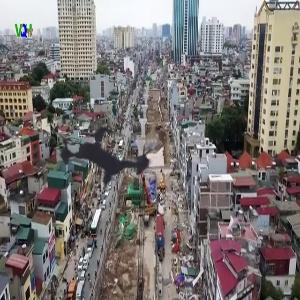drone: (23, 77, 181, 235)
